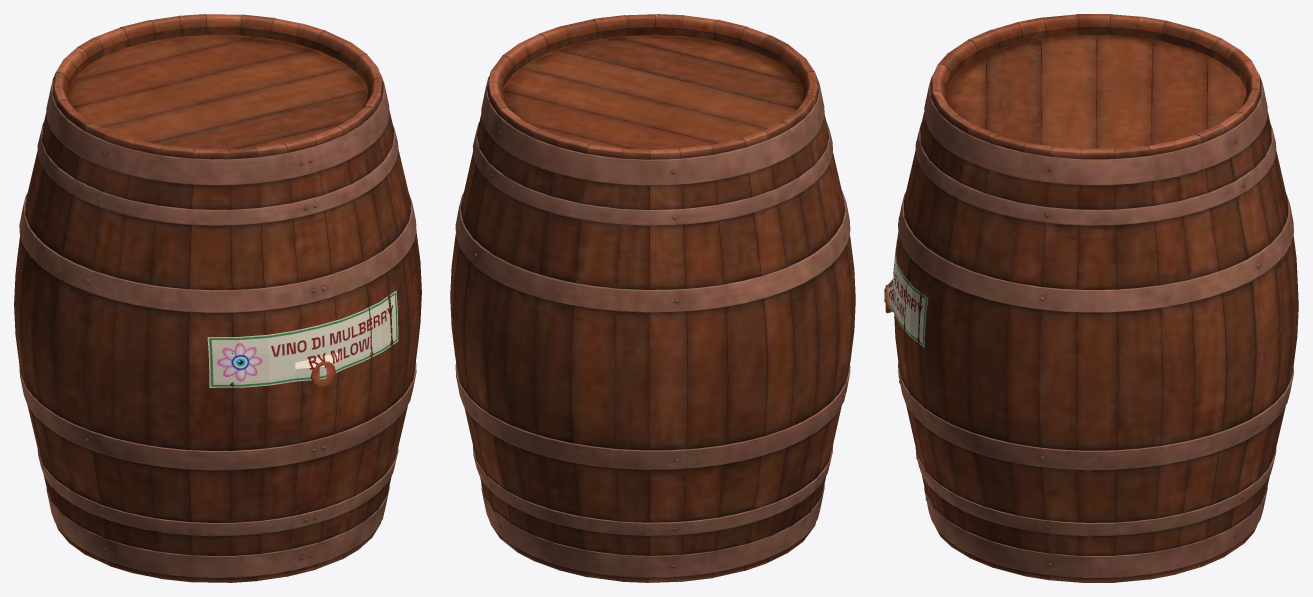
File: nyb_feast_barrel.glb
The picture shows the model from 3 angles, left to right: view 1: azimuth 30°, elevation 25°; view 2: azimuth 150°, elevation 25°; view 3: azimuth 270°, elevation 25°; orthographic projection.
Parts seen in each view (by area): view 1: wine_barrel_01_Lid, stk_lbl_27cc3c98db.png; view 2: wine_barrel_01_Lid; view 3: wine_barrel_01_Lid, stk_lbl_27cc3c98db.png.
Part boxes in pixels (box(x1,y1,x2,y2)): wine_barrel_01_Lid: box(14, 14, 421, 582); stk_lbl_27cc3c98db.png: box(207, 291, 398, 387); wine_barrel_01_Lid: box(450, 14, 855, 582); wine_barrel_01_Lid: box(885, 14, 1298, 582); stk_lbl_27cc3c98db.png: box(884, 240, 928, 347).
Bounding box in the file's own units: 0.7419 × 0.8713 × 0.7584.
Materials: 2 (2 with a texture image).
